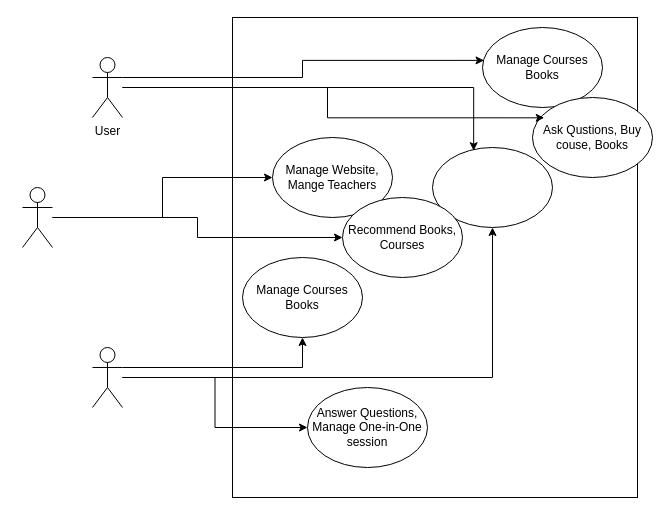
Image size: 670x515. Some labels were removed from this diagram. The shapes that lost their labels are listed below. From the top down, each one's box as (x1, y1, x2, y2) in pixels, then its label:
(432, 146, 552, 228): Login / Signup
(22, 186, 52, 248): System
(92, 346, 122, 408): Teacher
